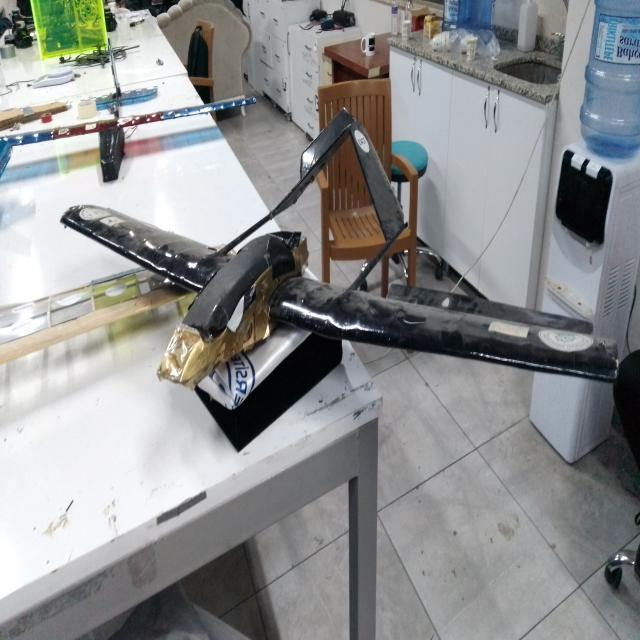UAV: (86, 116, 574, 510)
